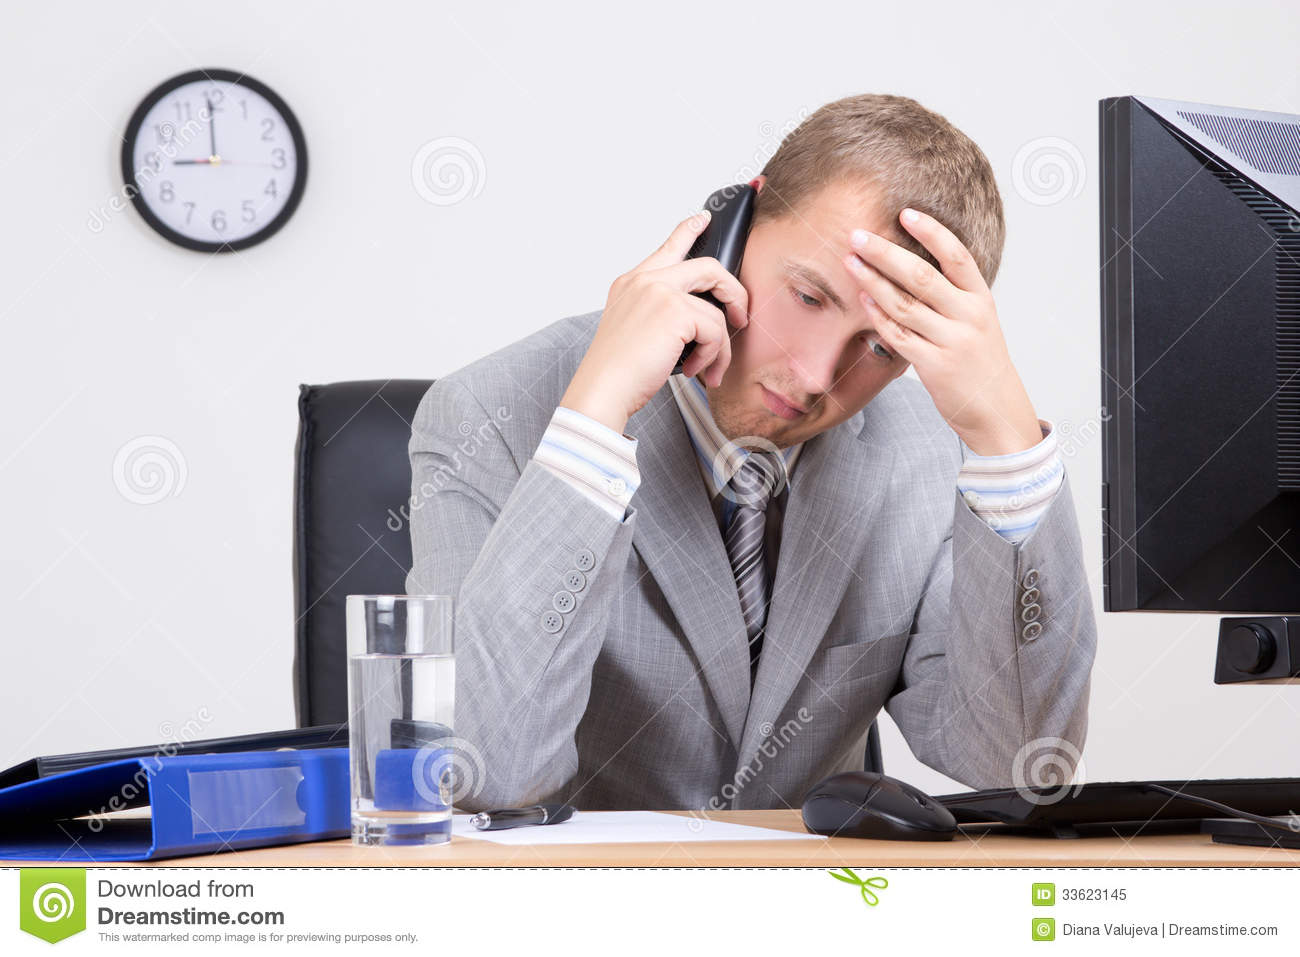phone: (661, 182, 750, 378)
talk: (579, 166, 904, 463)
